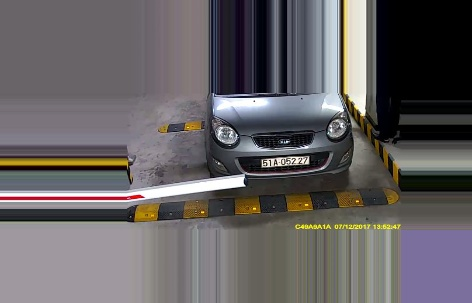plate: (261, 157, 312, 168)
